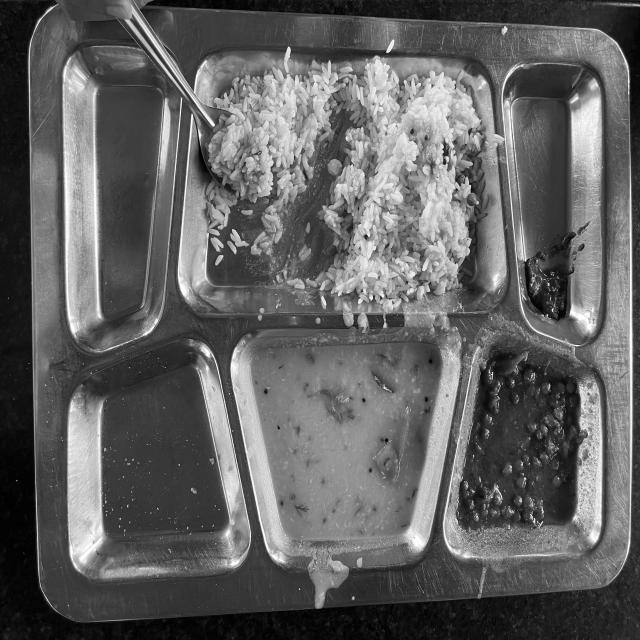50-Food-Left: (39, 13, 614, 551)
